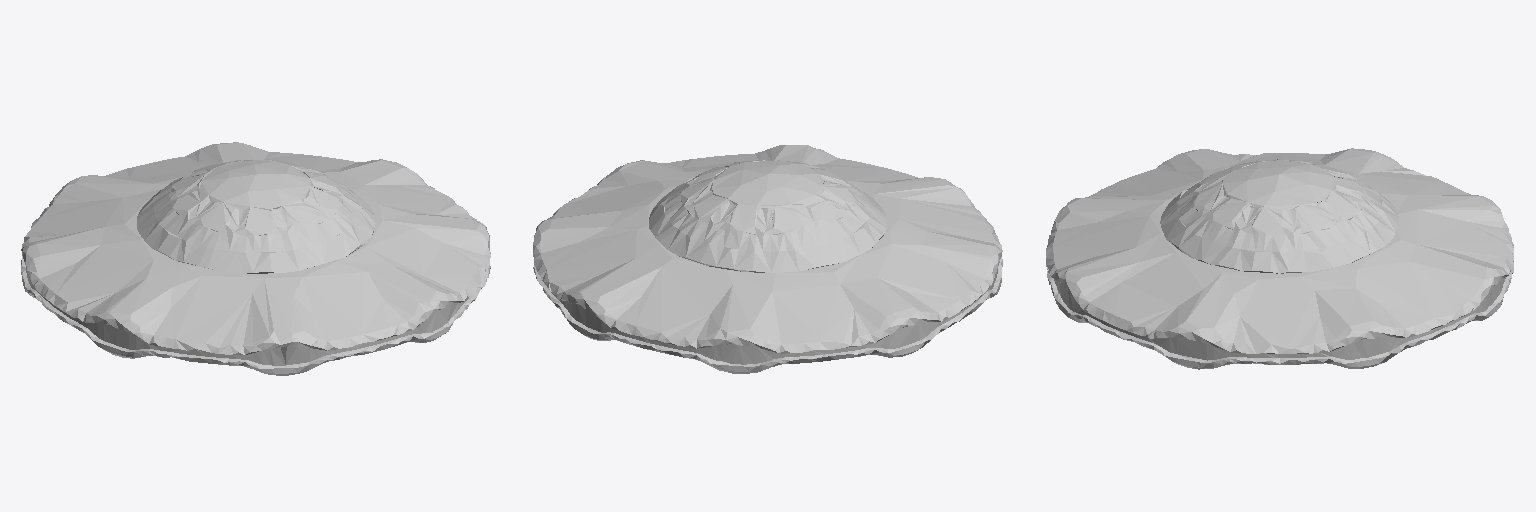
File: frame_028.obj
The picture shows the model from 3 angles: view 1: azimuth 30°, elevation 25°; view 2: azimuth 150°, elevation 25°; view 3: azimuth 270°, elevation 25°; orthographic projection.
Parts seen in each view (by area): view 1: 13884_UFO_Saucer_v1_l2; view 2: 13884_UFO_Saucer_v1_l2; view 3: 13884_UFO_Saucer_v1_l2.
Part boxes in pixels (left/top/right/bottom): 13884_UFO_Saucer_v1_l2: left=21, top=142, right=490, bottom=375; 13884_UFO_Saucer_v1_l2: left=533, top=145, right=1002, bottom=373; 13884_UFO_Saucer_v1_l2: left=1046, top=148, right=1513, bottom=369.
Size of the model in its own units: 12.69 by 4.88 by 12.7.